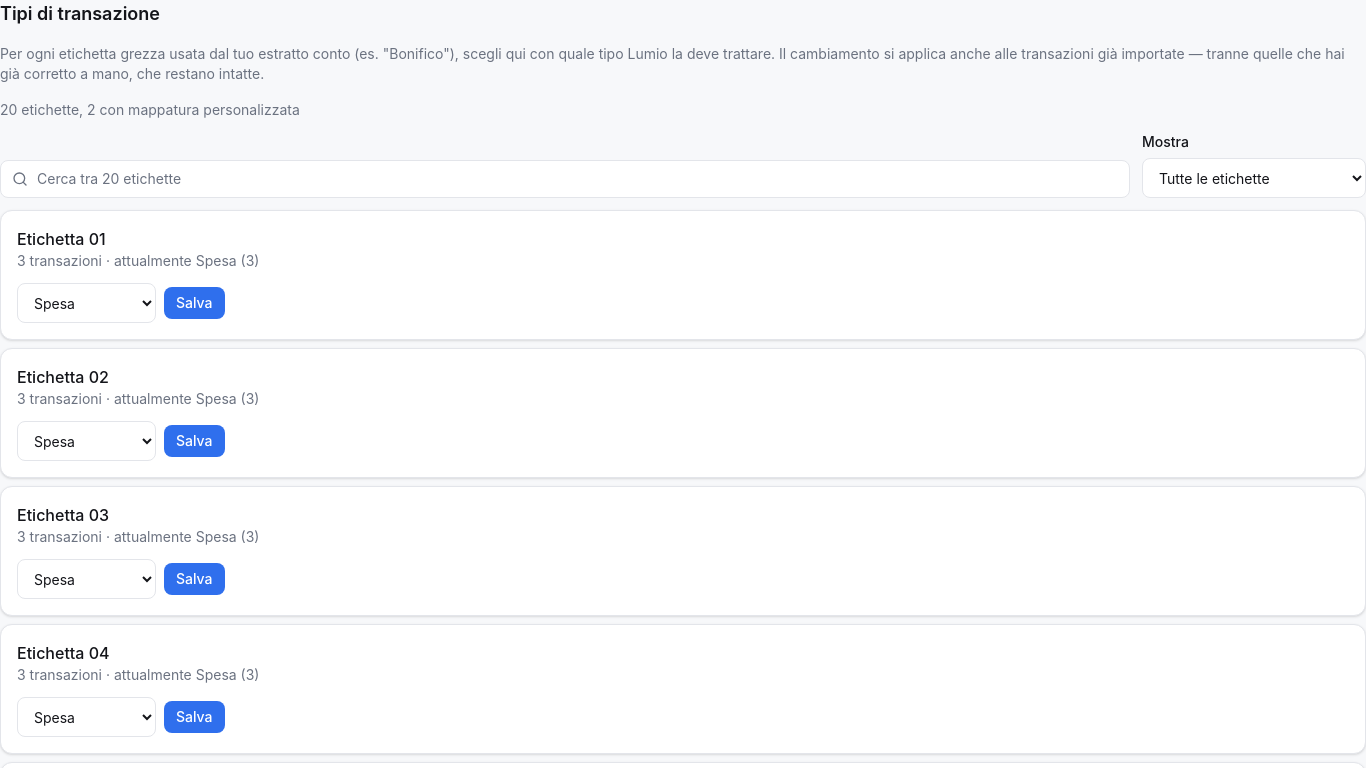
it: Mappatura dei tipi di transazione › il filtro mostra solo le etichette con mappatura personalizzata
Expected: the text "Etichetta 01" is shown, 17,229 -> 106,249
Step 1. Select "Solo con mappatura personalizzata" in the dropdown labelled "Mostra" → (1254, 178), box 1142,158 -> 1365,198
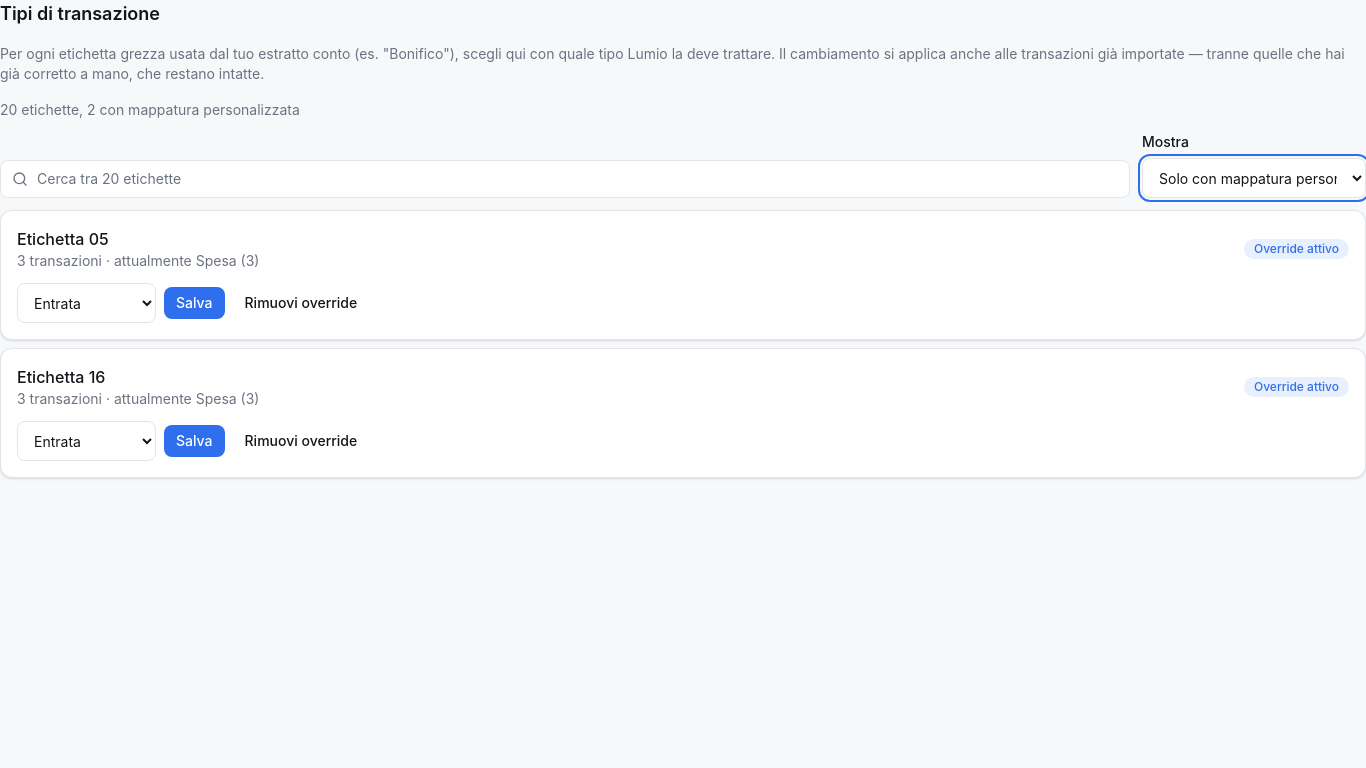
Expected: the text "Etichetta 05" is shown, 17,229 -> 109,249
Now the text "Etichetta 16" is shown, box 17,367 -> 105,387
Now the text "Etichetta 01" is gone
